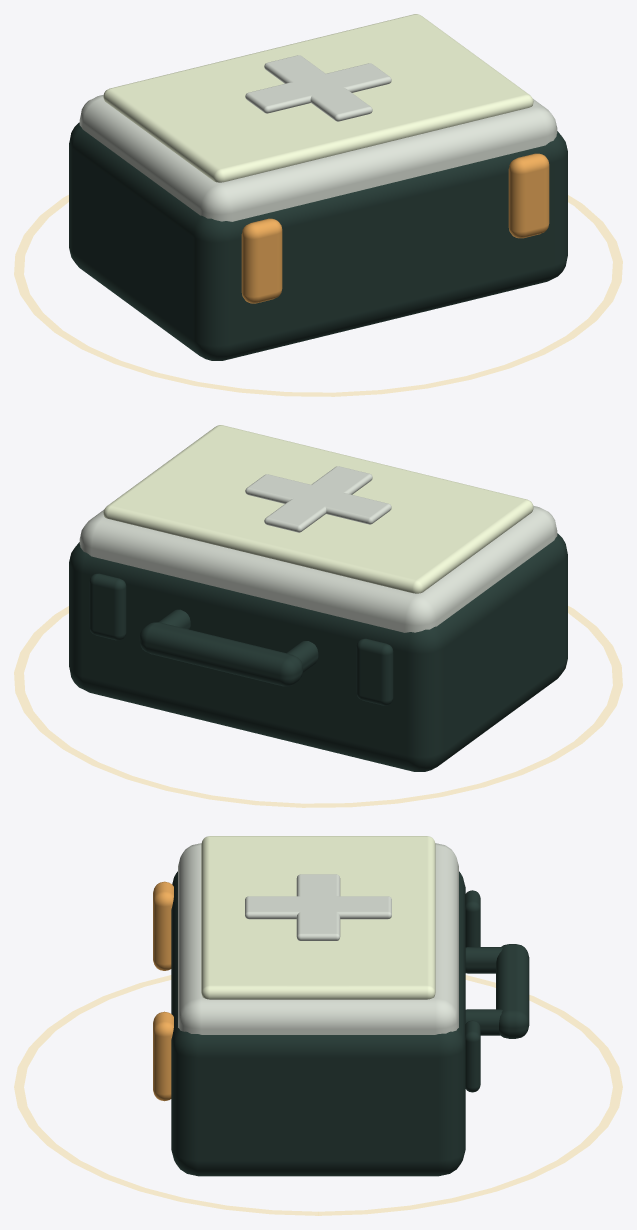
Rendered from recovery-kit.glb.
3 views of the same model, one above another, from view 1: azimuth 30°, elevation 25°; view 2: azimuth 150°, elevation 25°; view 3: azimuth 270°, elevation 25° (orthographic).
Visible parts, largest first — view 1: ground-kit, pickup-marker; view 2: ground-kit, pickup-marker; view 3: ground-kit, pickup-marker.
Part boxes in pixels (left/top/right/bottom): ground-kit: left=69, top=14, right=567, bottom=360; pickup-marker: left=14, top=195, right=622, bottom=396; ground-kit: left=69, top=425, right=567, bottom=771; pickup-marker: left=14, top=606, right=622, bottom=807; ground-kit: left=153, top=836, right=529, bottom=1176; pickup-marker: left=14, top=975, right=622, bottom=1215.
Bounding box in the file's own units: 0.91 × 0.314 × 0.91.
